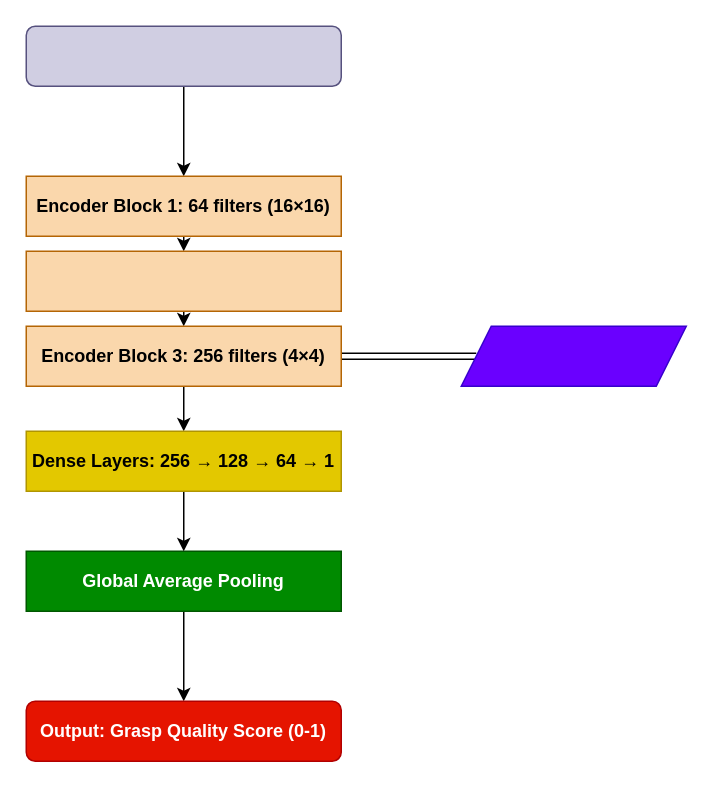
Image size: 713x788. Some labels were removed from this diagram. Each missing label, with the centre of its shape:
"Attention Mechanism" goes at (573,355).
"Encoder Block 2: 128 filters (8×8)" goes at (183,280).
"Input: 9-channel features (32×32)" goes at (183,55).
